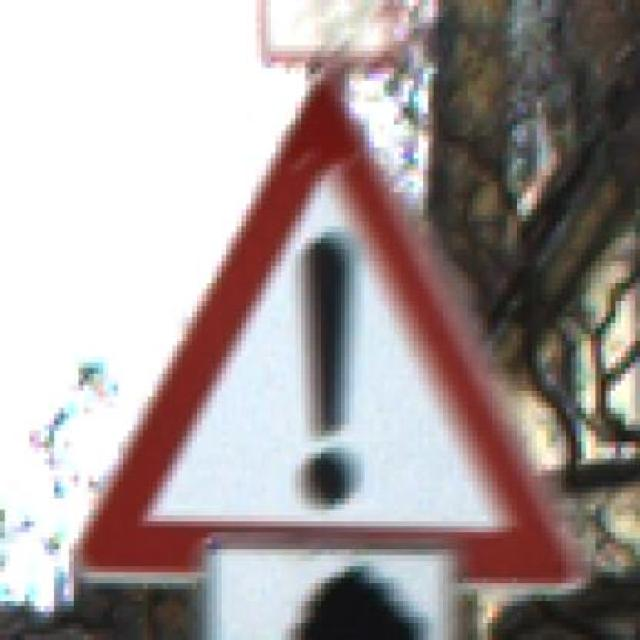Attention Please-: (84, 62, 601, 618)
